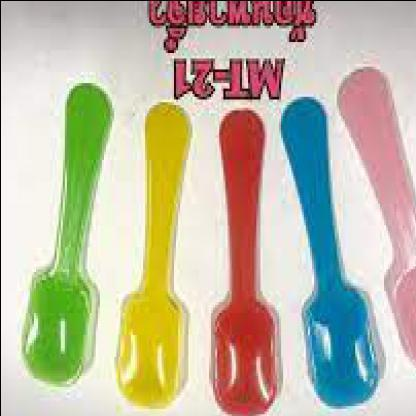Others: (13, 63, 414, 415)
